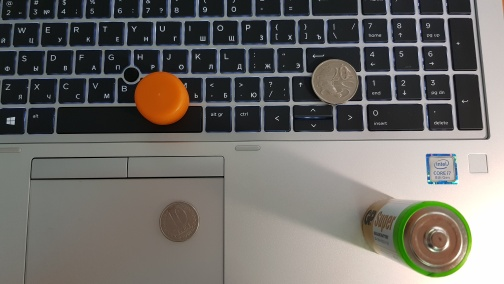coin: (311, 58, 360, 106), (158, 200, 200, 243)
